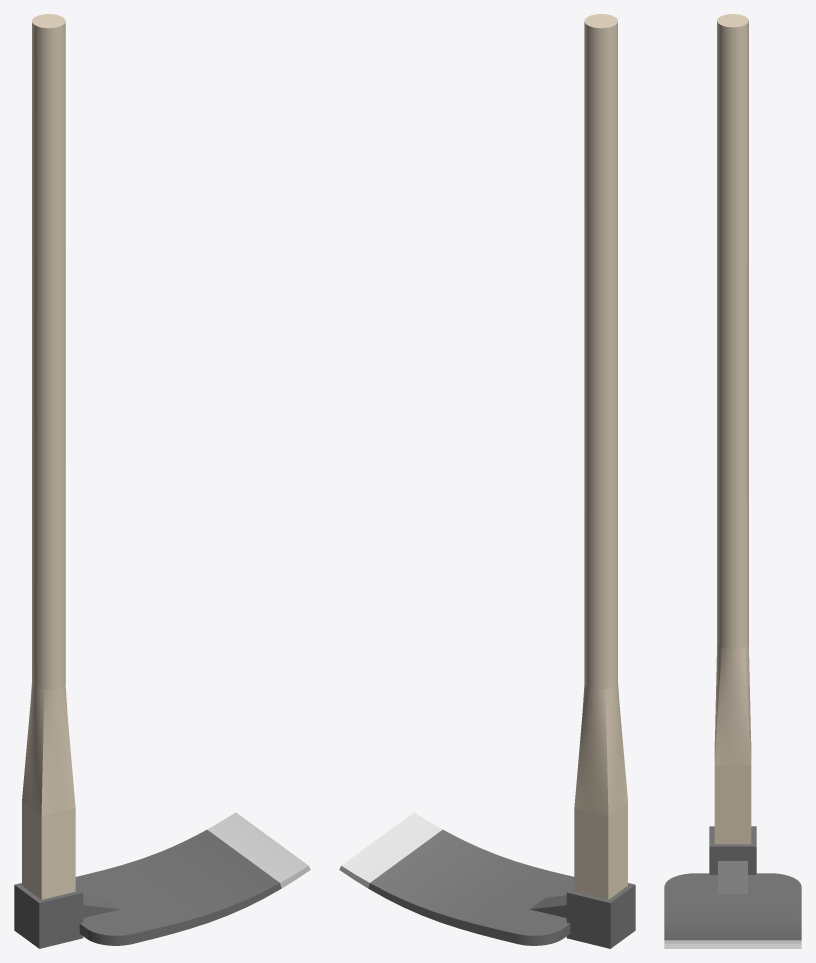
Rendered from 962_hoe_kara.glb.
The picture shows the model from 3 angles, left to right: view 1: azimuth 30°, elevation 25°; view 2: azimuth 150°, elevation 25°; view 3: azimuth 270°, elevation 25°; orthographic projection. The views are drawn at different scales.
Visible parts, largest first — view 1: Body; view 2: Body; view 3: Body.
Boxes of the visible parts, box(x1,y1,x2,y2) form: Body: box(14, 14, 310, 948); Body: box(339, 14, 635, 948); Body: box(664, 14, 801, 948).
Bounding box in the file's own units: 0.2544 × 0.9 × 0.13.
